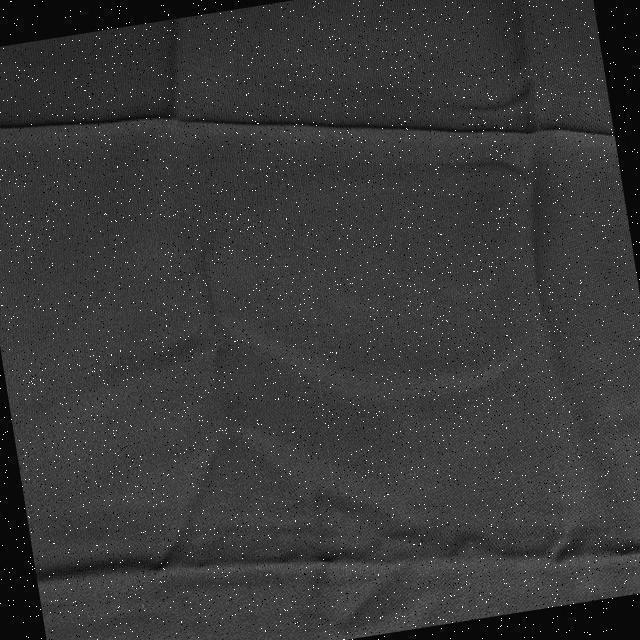broken_yarn: (41, 542, 640, 587), (0, 106, 612, 147)
